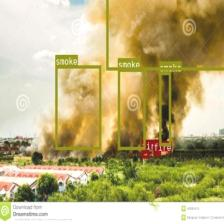fire: (141, 149, 149, 158), (154, 151, 160, 156)
smoke: (105, 0, 224, 70), (55, 65, 101, 149), (117, 68, 145, 150), (159, 72, 170, 146)
